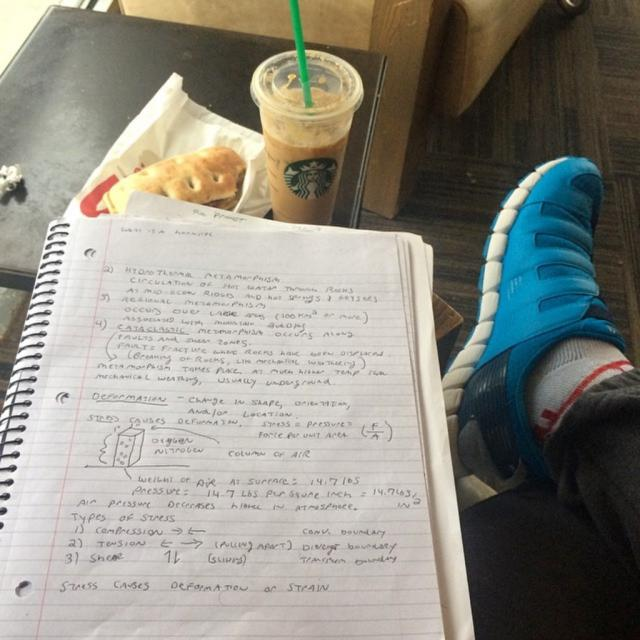Coffee: (257, 100, 336, 209)
